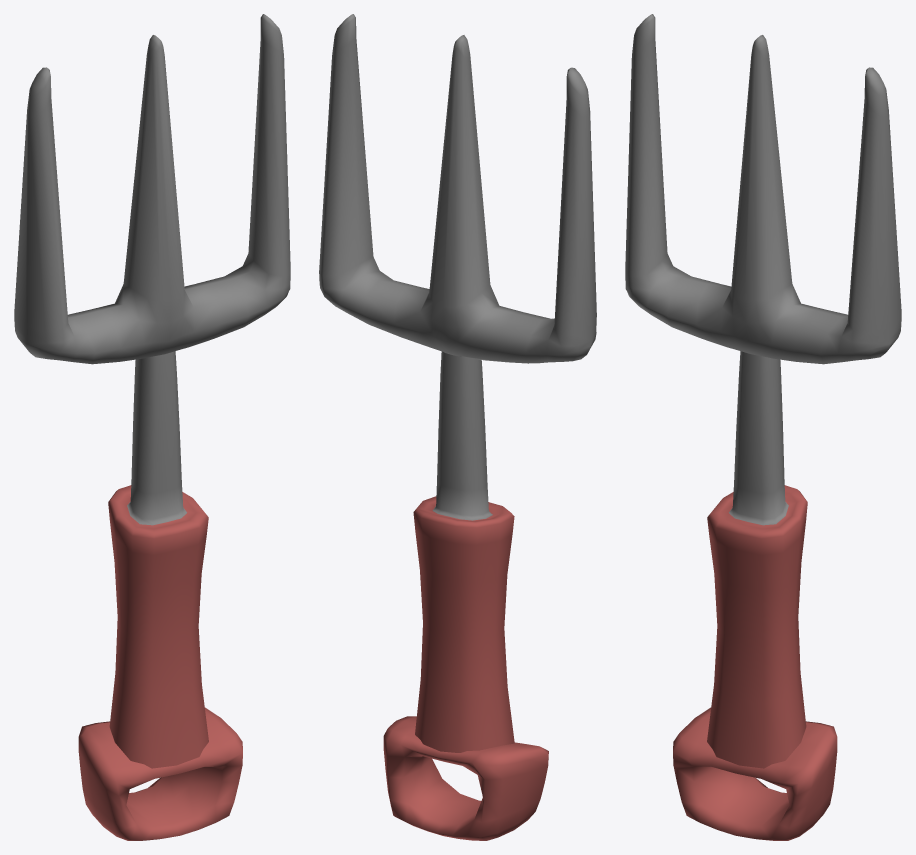
Rendered from Garden_Fork.fbx.
The picture shows the model from 3 angles, left to right: view 1: azimuth 30°, elevation 25°; view 2: azimuth 150°, elevation 25°; view 3: azimuth 330°, elevation 25°; orthographic projection.
Parts seen in each view (by area): view 1: Garden_Fork; view 2: Garden_Fork; view 3: Garden_Fork.
Boxes of the visible parts, x1,y1,x2,y2 form: Garden_Fork: (14,14,290,840); Garden_Fork: (319,14,596,840); Garden_Fork: (625,14,901,840).
Size of the model in its own units: 10.54 by 30.62 by 3.51.
